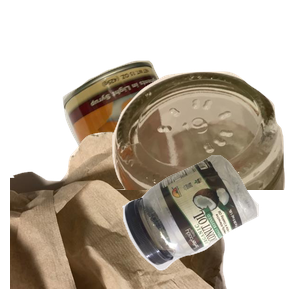glass: (89, 69, 300, 249)
metal: (60, 58, 300, 238)
plastic: (120, 152, 300, 300)
trash: (10, 120, 229, 300)
